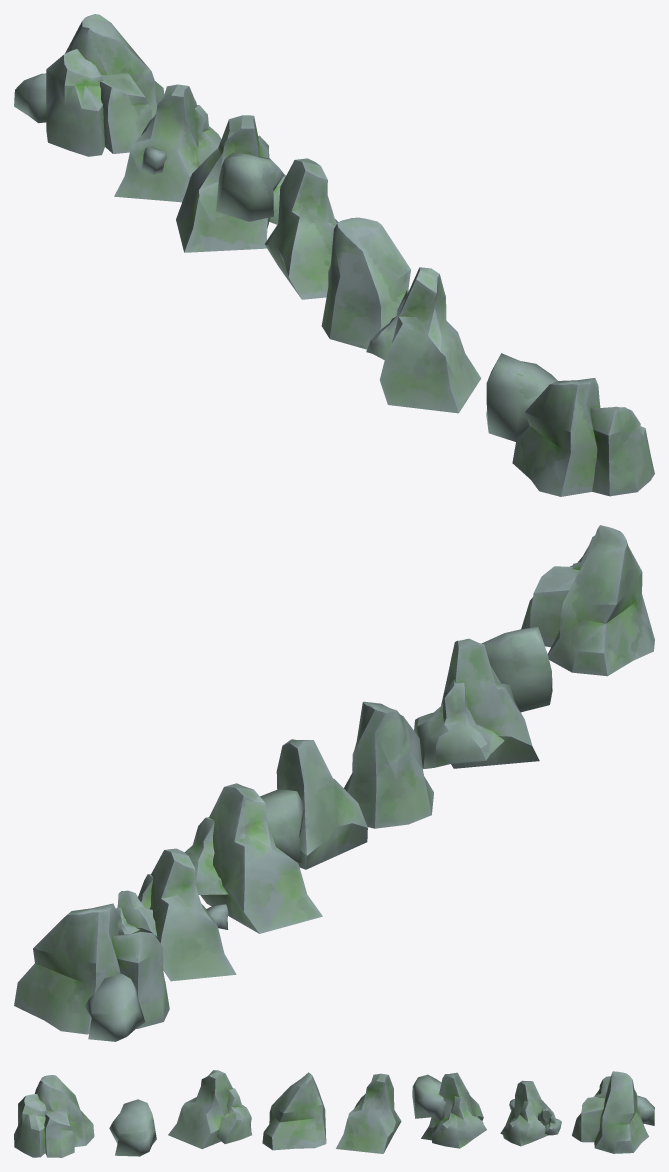
File: Rochers.fbx
3 renders of one model, top to bottom at view 1: azimuth 30°, elevation 25°; view 2: azimuth 150°, elevation 25°; view 3: azimuth 270°, elevation 25°, orthographic. The views are drawn at different scales.
Parts seen in each view (by area): view 1: Rocher 8.012, Rocher 8.001, Rocher 8.006, Rocher 8.003, Rocher 8.004, Rocher 8.007, Rocher 8.005, Rocher 8.002; view 2: Rocher 8.012, Rocher 8.006, Rocher 8.001, Rocher 8.003, Rocher 8.007, Rocher 8.004, Rocher 8.005, Rocher 8.002; view 3: Rocher 8.001, Rocher 8.012, Rocher 8.003, Rocher 8.006, Rocher 8.004, Rocher 8.005, Rocher 8.007, Rocher 8.002.
Boxes of the visible parts, x1,y1,x2,y2 form: Rocher 8.012: (14,14,164,156); Rocher 8.001: (512,378,654,496); Rocher 8.006: (176,115,286,252); Rocher 8.003: (366,267,481,413); Rocher 8.004: (321,217,410,349); Rocher 8.007: (114,84,221,202); Rocher 8.005: (264,158,338,299); Rocher 8.002: (486,353,557,441); Rocher 8.012: (14,903,169,1041); Rocher 8.006: (185,783,322,933); Rocher 8.001: (521,525,654,676); Rocher 8.003: (414,638,539,768); Rocher 8.007: (116,848,236,981); Rocher 8.004: (344,701,433,828); Rocher 8.005: (276,739,367,869); Rocher 8.002: (482,627,552,712); Rocher 8.001: (14,1075,94,1157); Rocher 8.012: (572,1071,654,1153); Rocher 8.003: (168,1070,252,1148); Rocher 8.006: (412,1072,486,1148); Rocher 8.004: (262,1072,326,1150); Rocher 8.005: (336,1073,401,1153); Rocher 8.007: (500,1080,561,1146); Rocher 8.002: (109,1099,156,1156).
Bounding box in the file's own units: 462 × 387 × 3220.
